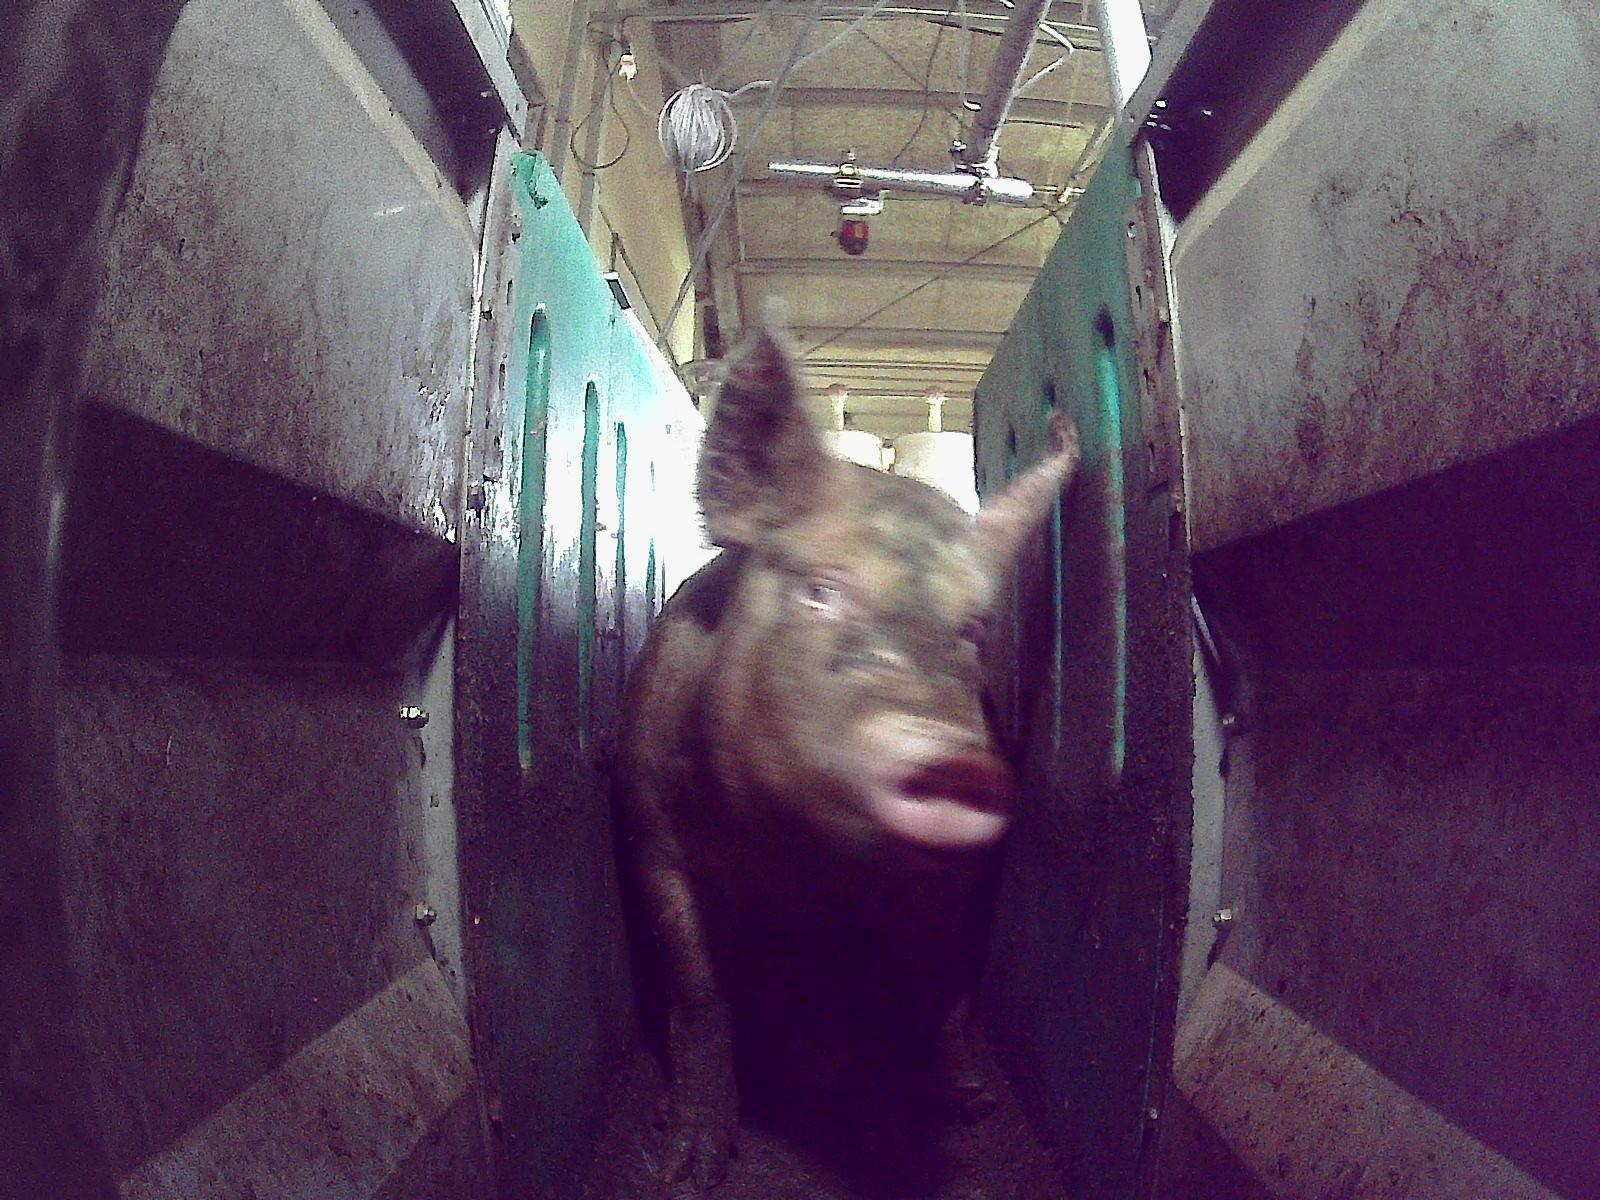Face: (694, 461, 1013, 874)
